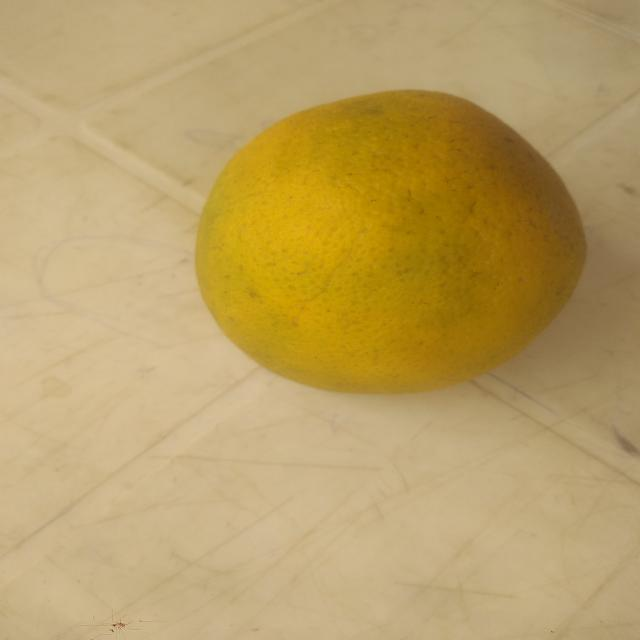Ripe orange: (179, 79, 607, 422)
